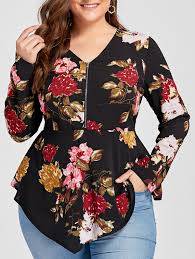C_blouse: (6, 20, 195, 227)
